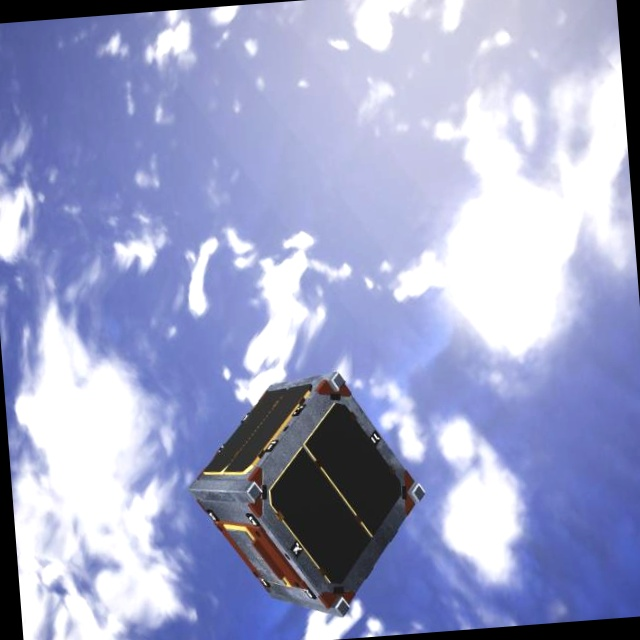medium_debris: (178, 370, 441, 627)
